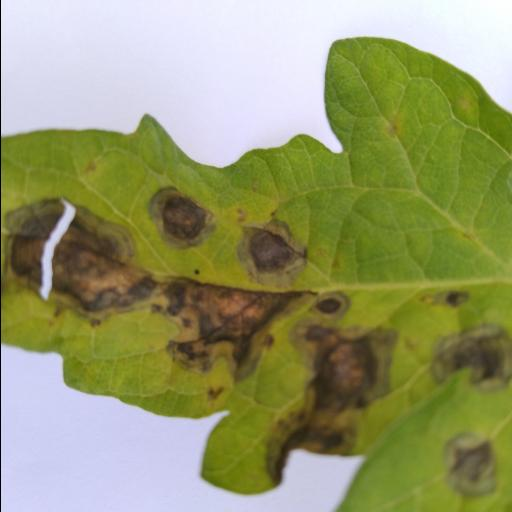disease_tomato: (0, 36, 512, 512)
